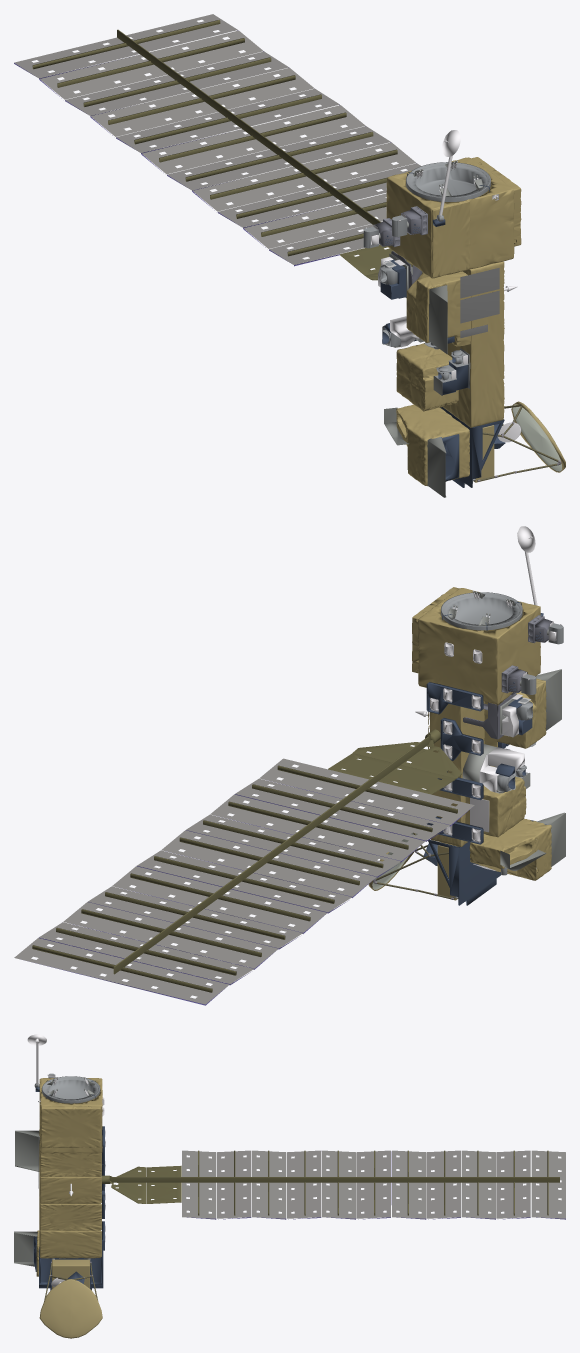
Rendered from aqua.glb.
3 renders of one model, top to bottom at view 1: azimuth 30°, elevation 25°; view 2: azimuth 150°, elevation 25°; view 3: azimuth 270°, elevation 25°, orthographic. The views are drawn at different scales.
Parts seen in each view (by area): view 1: Aqua_Reduced_v0014 [Aqua_Layered_02 [(unnamed)]]; view 2: Aqua_Reduced_v0014 [Aqua_Layered_02 [(unnamed)]]; view 3: Aqua_Reduced_v0014 [Aqua_Layered_02 [(unnamed)]].
Boxes of the visible parts, bbox=[...] form: Aqua_Reduced_v0014 [Aqua_Layered_02 [(unnamed)]]: bbox=[14, 14, 565, 497]; Aqua_Reduced_v0014 [Aqua_Layered_02 [(unnamed)]]: bbox=[14, 526, 565, 1005]; Aqua_Reduced_v0014 [Aqua_Layered_02 [(unnamed)]]: bbox=[14, 1034, 565, 1338].
Bounding box in the file's own units: 124 × 230 × 434.
Materials: 2 (2 with a texture image).
